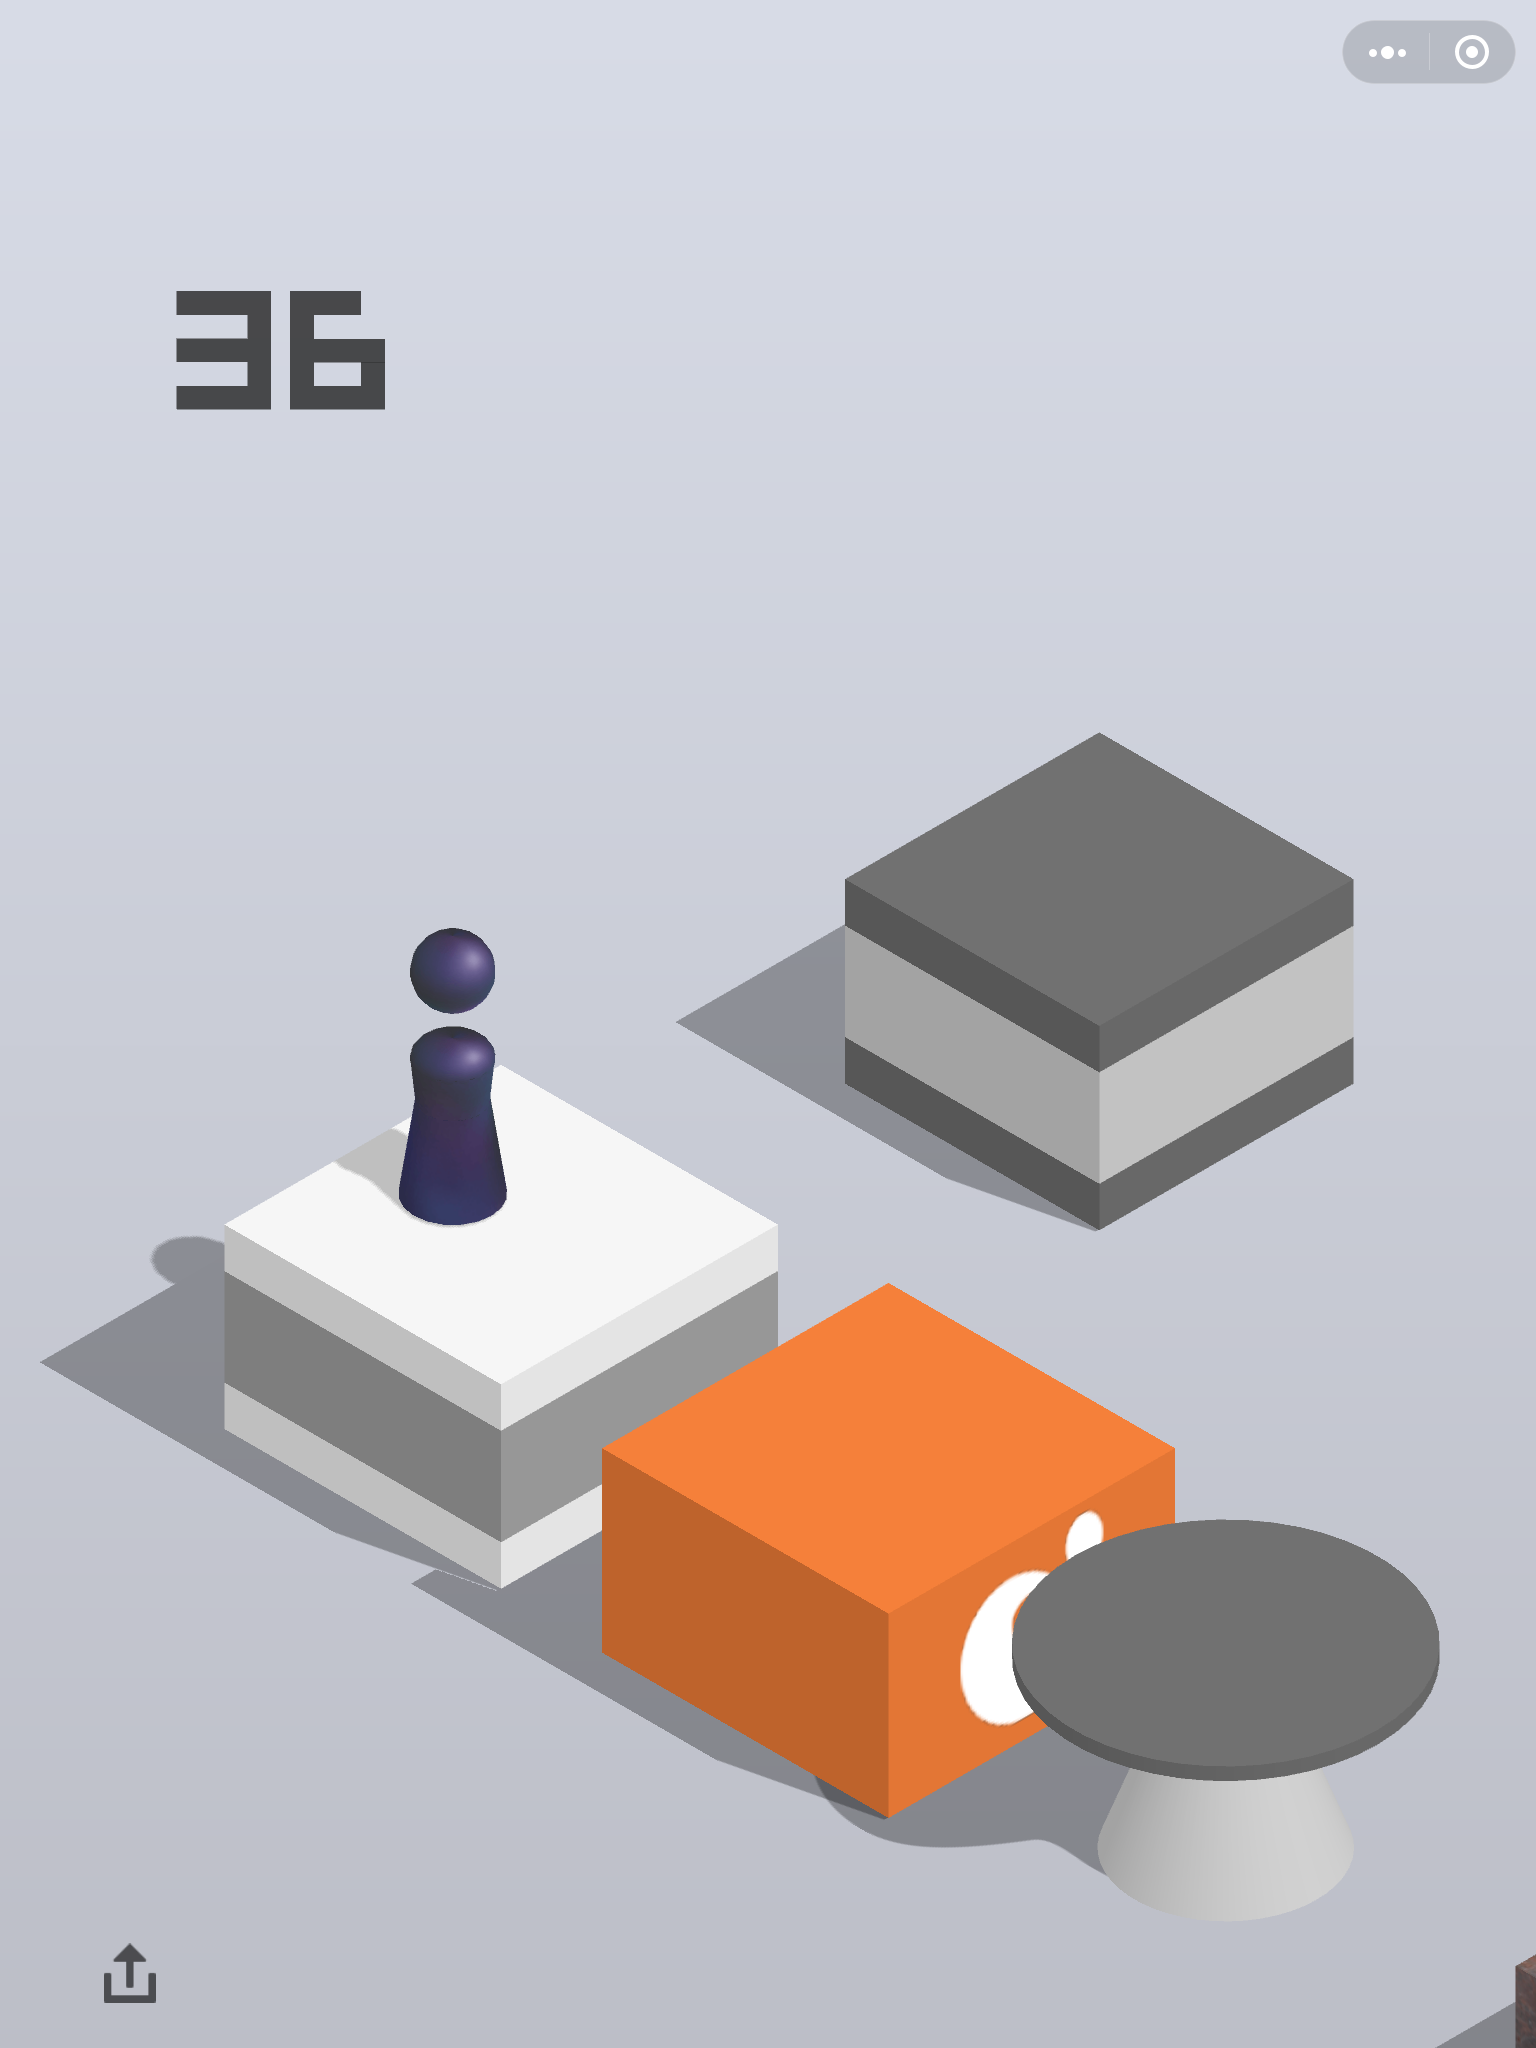c: (1008, 1514, 1447, 1930)
f: (595, 1279, 1179, 1824), (218, 1056, 786, 1596), (841, 727, 1362, 1235)
r: (394, 924, 515, 1230)
